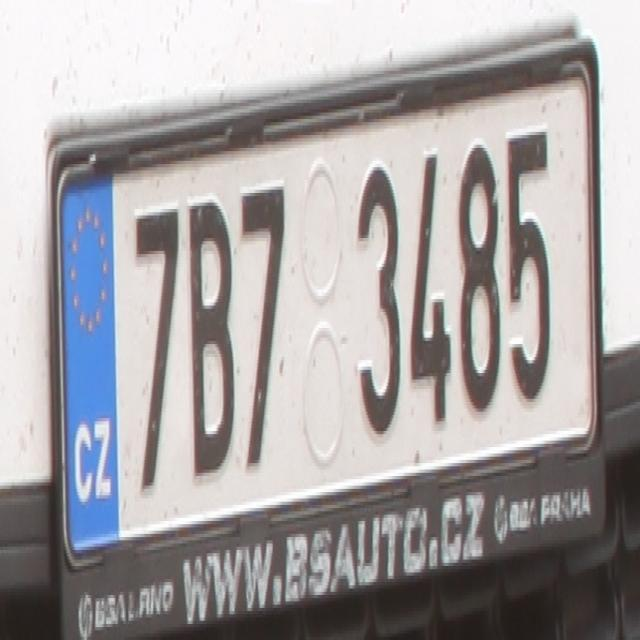3: (354, 164, 402, 434)
4: (407, 151, 452, 431)
5: (507, 125, 551, 402)
7: (135, 205, 181, 486), (241, 180, 285, 473)
8: (456, 142, 502, 422)
B: (186, 193, 234, 476)
